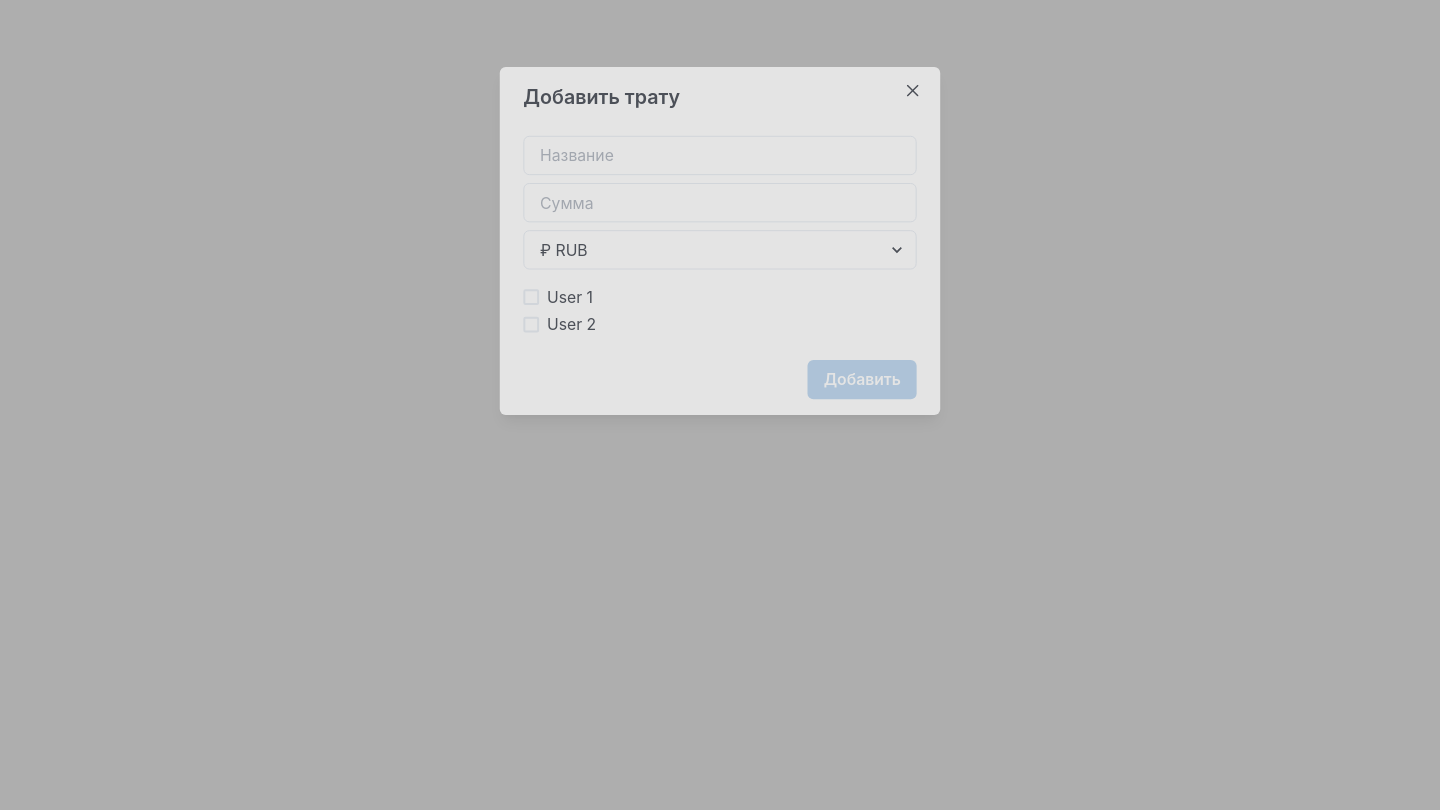
Test: AddExpenseModal › бросает ошибку если user отсутствует
Check: the text "User 1" is shown, box 547,285 -> 593,309
In the field with placeholder "Название": (720, 155) 523,136 -> 917,175, type "Чаевые"
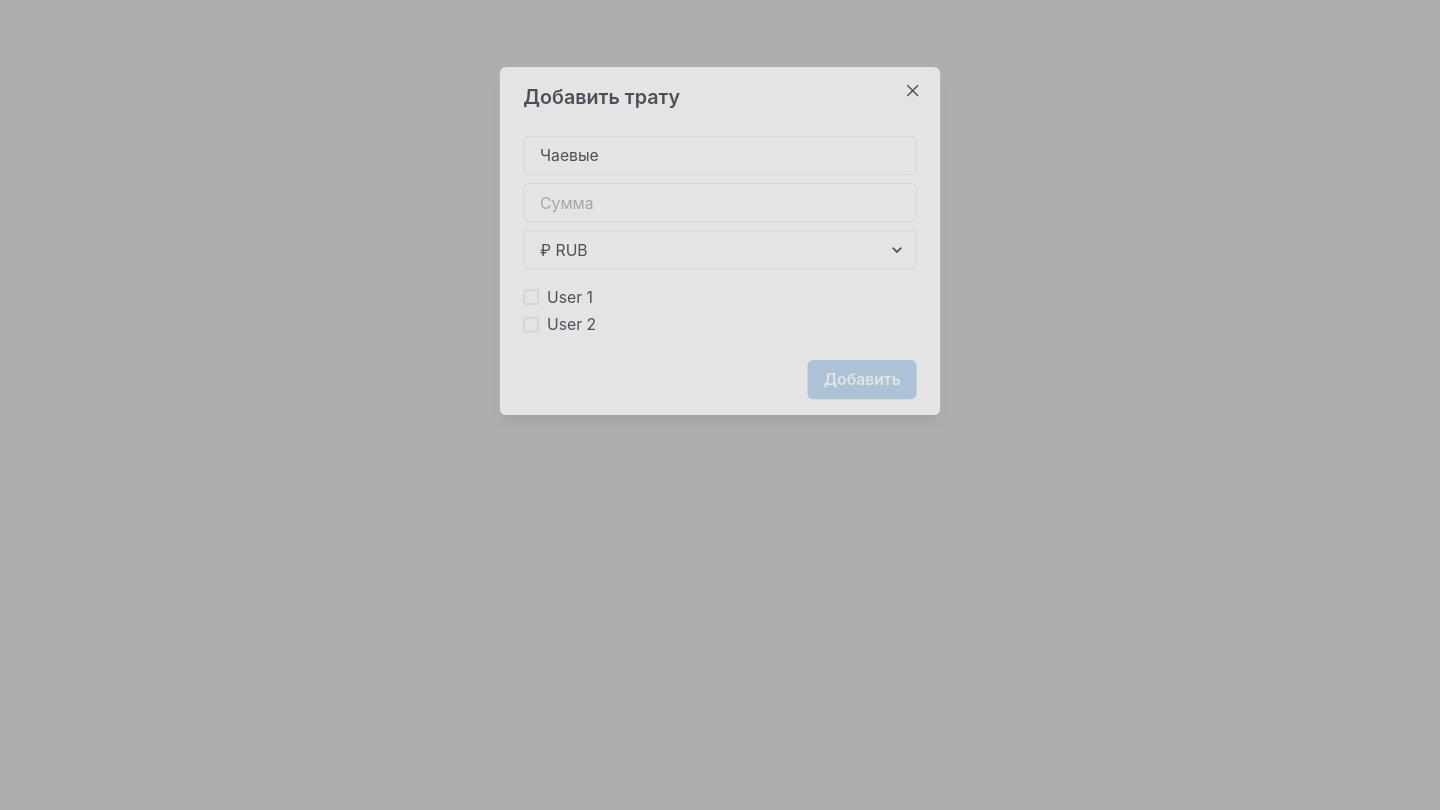
In the number field with placeholder "Сумма": (720, 203) 523,183 -> 917,222, type "50"
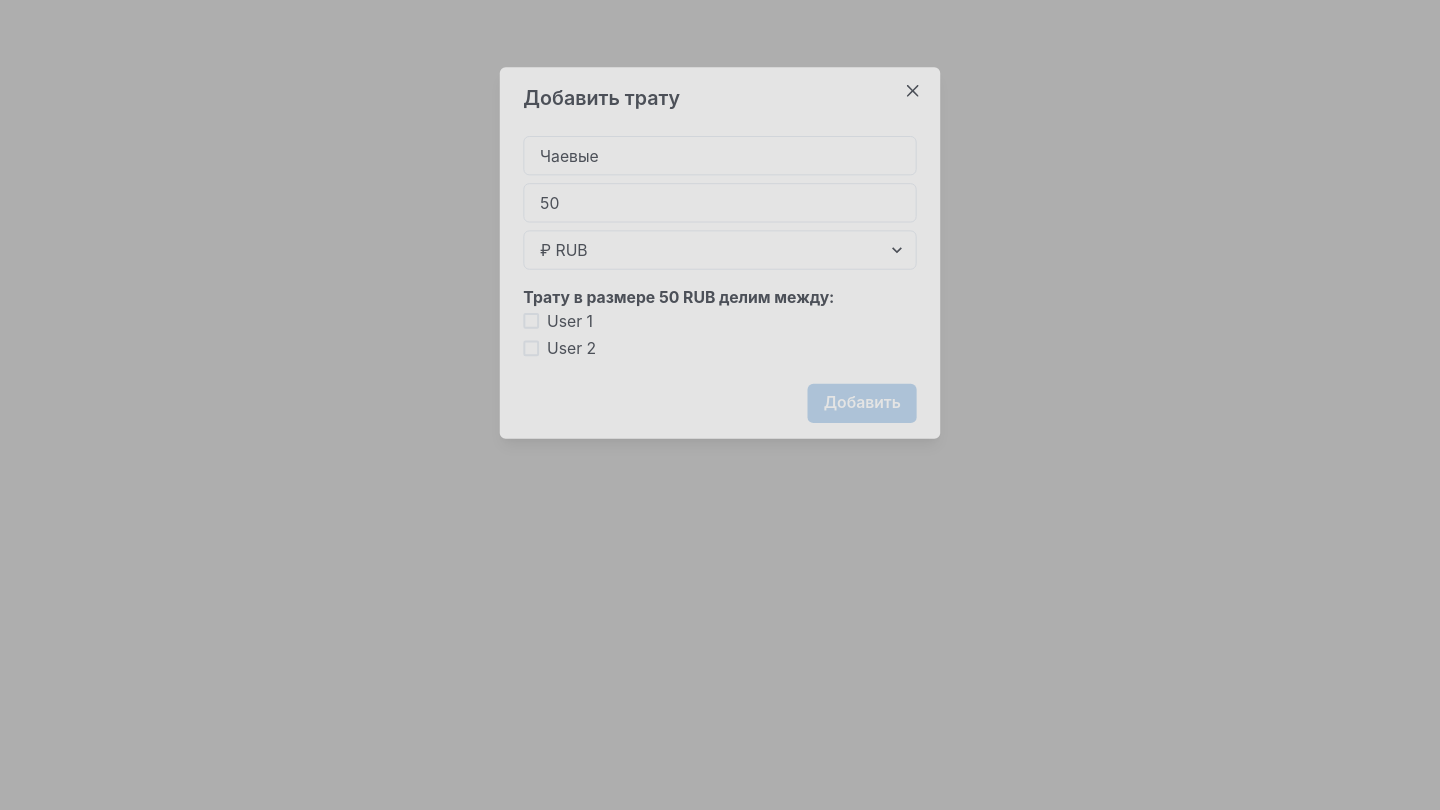
Click the text "User 1": (570, 321) 547,309 -> 593,333
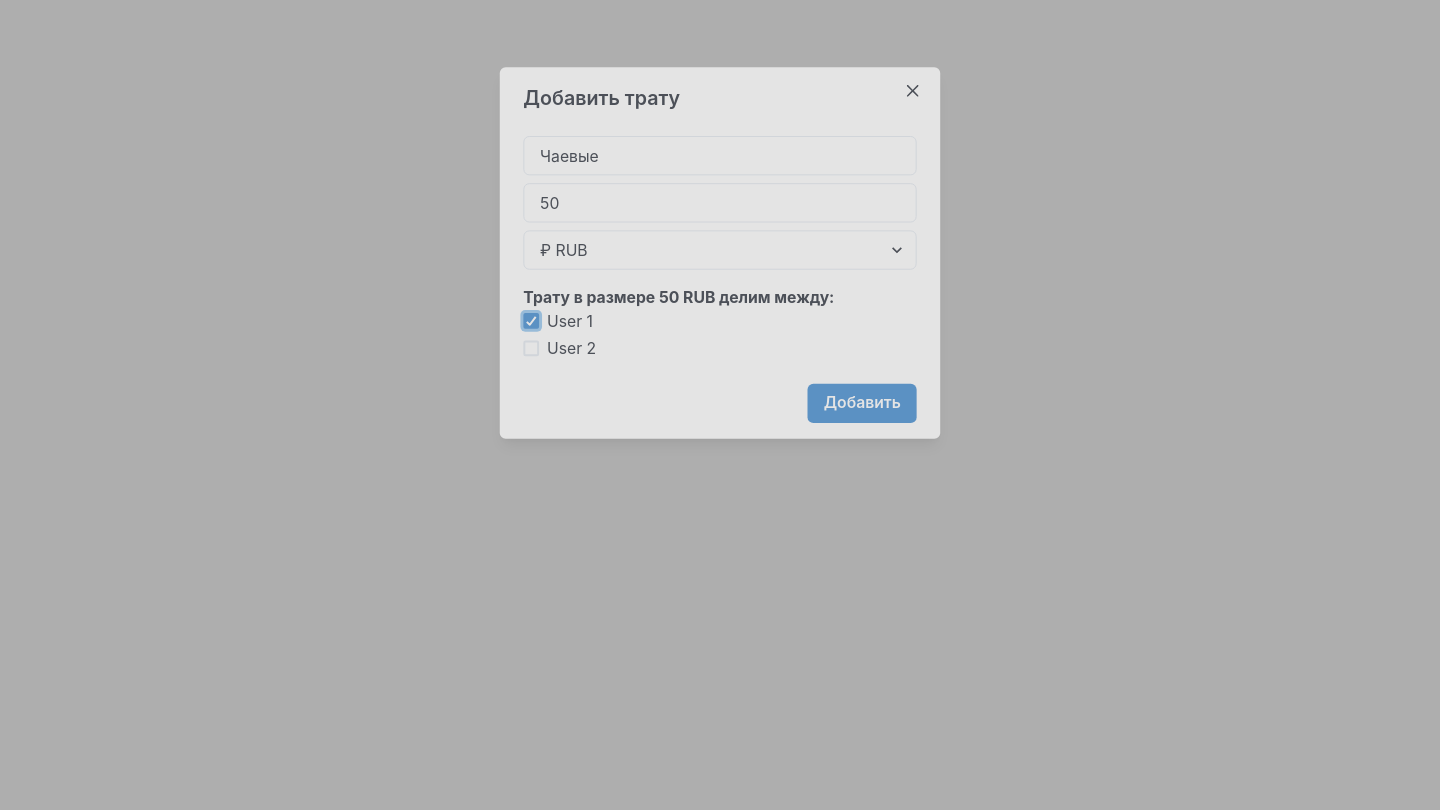
Click the button "Добавить": (862, 403) 808,384 -> 917,423
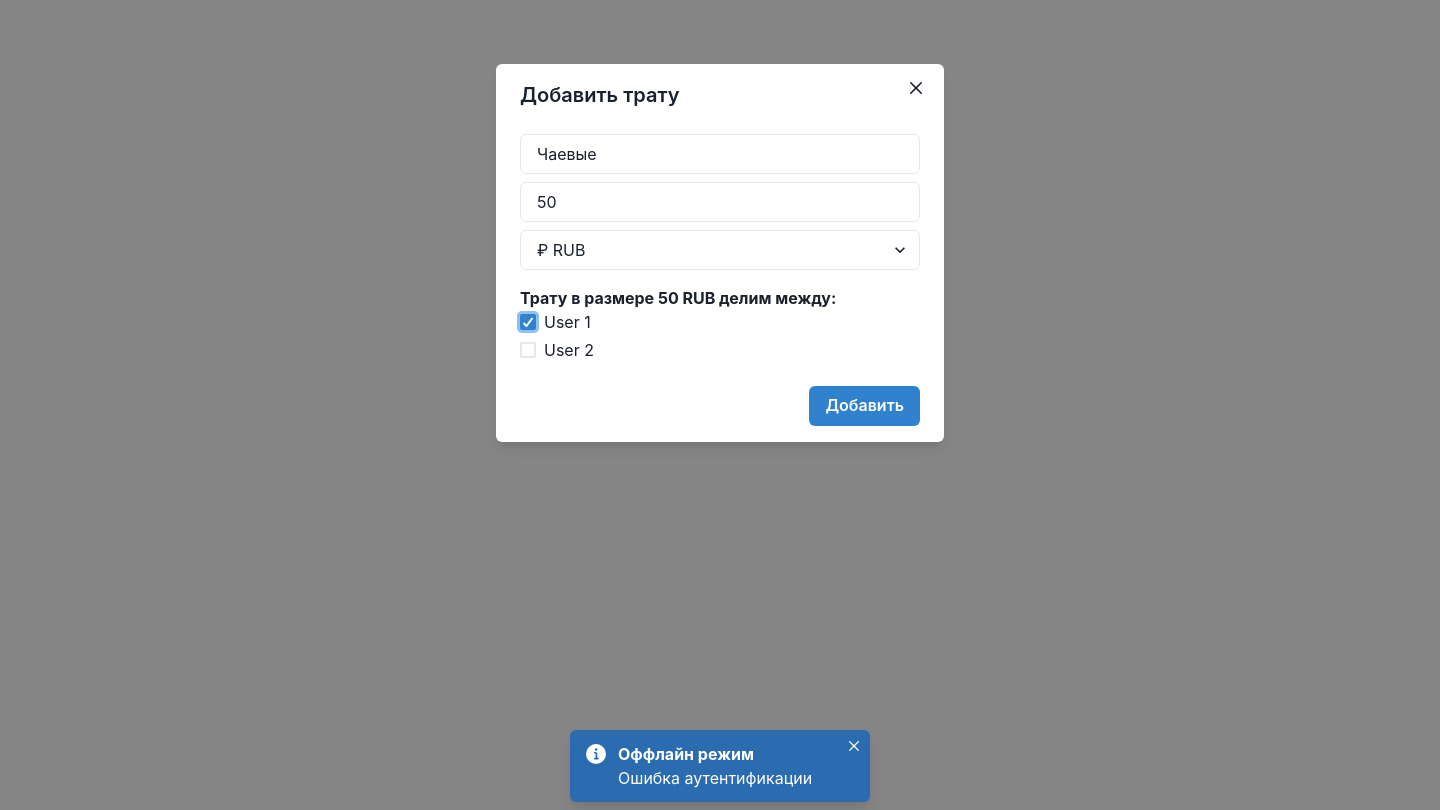
Check: the text "Ошибка аутентификации" is shown, box 618,766 -> 838,790
